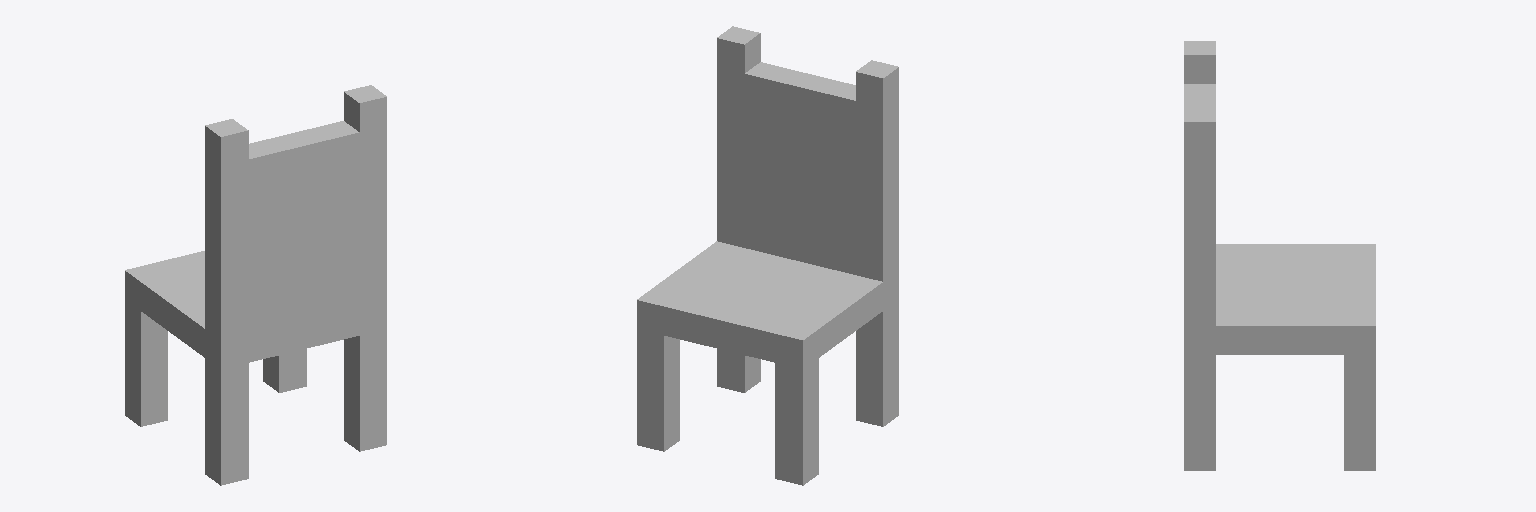
Rendered from escenario (1)-2.obj.
The picture shows the model from 3 angles: view 1: azimuth 30°, elevation 25°; view 2: azimuth 150°, elevation 25°; view 3: azimuth 270°, elevation 25°; orthographic projection.
Parts seen in each view (by area): view 1: object 1; view 2: object 1; view 3: object 1.
Part boxes in pixels (x1,y1,x2,y2): object 1: (125, 85, 386, 485); object 1: (637, 26, 898, 485); object 1: (1184, 41, 1375, 470).
Bounding box in the file's own units: 0.6 × 1.2 × 0.6.